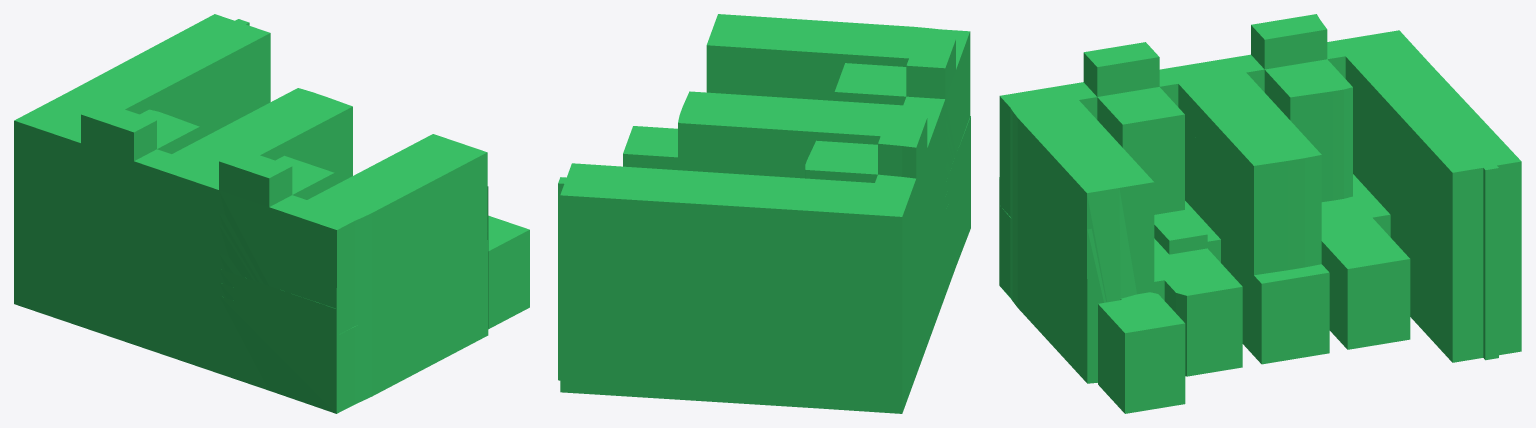
The model's file is building4.glb.
3 renders of one model, left to right at view 1: azimuth 30°, elevation 25°; view 2: azimuth 150°, elevation 25°; view 3: azimuth 270°, elevation 25°, orthographic. The views are drawn at different scales.
Parts seen in each view (by area): view 1: building4; view 2: building4; view 3: building4.
Part boxes in pixels (bbox=[...]): building4: bbox=[14, 14, 529, 413]; building4: bbox=[558, 14, 970, 413]; building4: bbox=[999, 14, 1521, 413].
Bounding box in the file's own units: 104 × 55.3 × 119.
